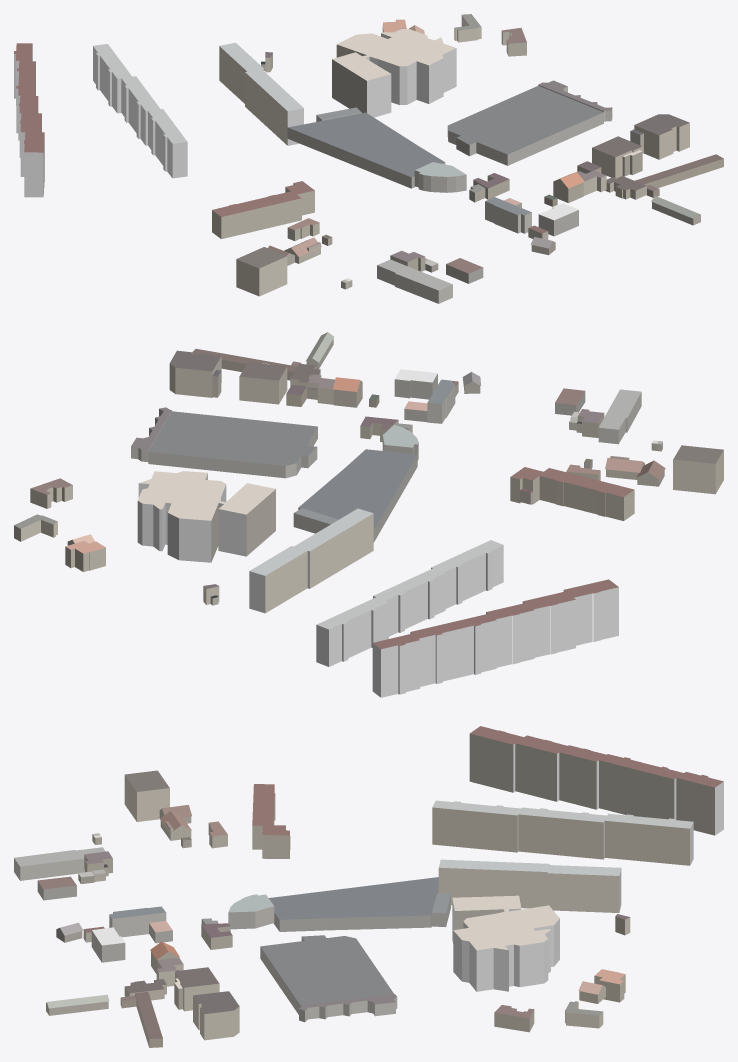
3 renders of one model, top to bottom at view 1: azimuth 30°, elevation 25°; view 2: azimuth 150°, elevation 25°; view 3: azimuth 270°, elevation 25°, orthographic. The views are drawn at different scales.
Visible parts, largest first — view 1: tuile; view 2: tuile; view 3: tuile.
Boxes of the visible parts, left/top/right/bottom form: tuile: left=14, top=14, right=723, bottom=303; tuile: left=14, top=332, right=723, bottom=697; tuile: left=14, top=726, right=723, bottom=1047.
Bounding box in the file's own units: 295 × 23.48 × 310.
